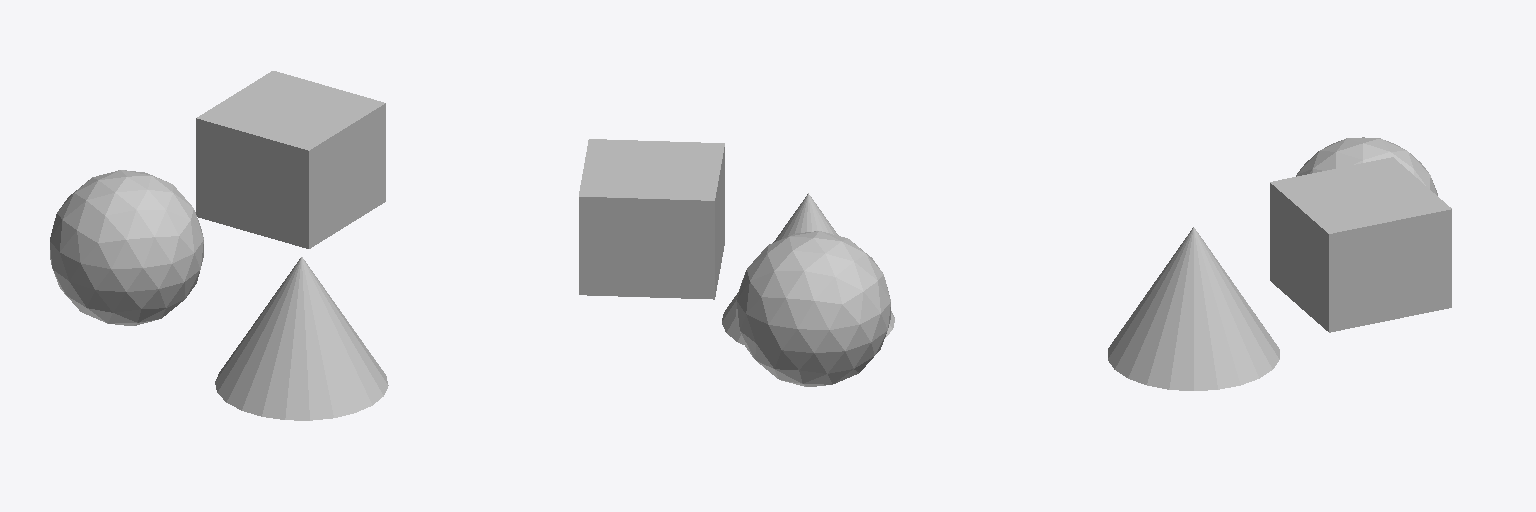
The model's file is figures.obj.
3 renders of one model, left to right at view 1: azimuth 30°, elevation 25°; view 2: azimuth 150°, elevation 25°; view 3: azimuth 270°, elevation 25°, orthographic.
Visible parts, largest first — view 1: box, sphere, conus; view 2: box, sphere, conus; view 3: box, conus, sphere.
Boxes of the visible parts, x1=… form: box: x1=196, y1=71, x2=385, y2=248; sphere: x1=50, y1=170, x2=203, y2=325; conus: x1=215, y1=257, x2=388, y2=420; box: x1=579, y1=139, x2=724, y2=299; sphere: x1=736, y1=231, x2=890, y2=386; conus: x1=722, y1=193, x2=894, y2=344; box: x1=1270, y1=157, x2=1451, y2=332; conus: x1=1108, y1=227, x2=1279, y2=390; sphere: x1=1296, y1=137, x2=1437, y2=195.
Size of the model in its own units: 48.12 by 28.92 by 46.44.